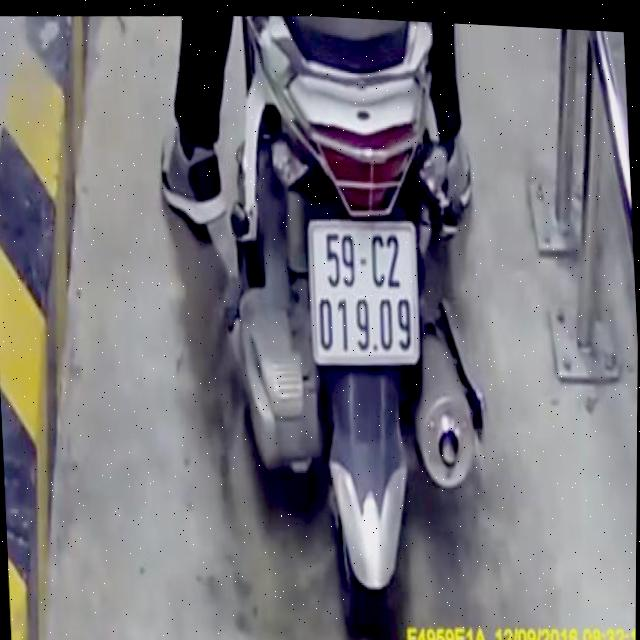motorcycle: (212, 11, 506, 640)
plate: (305, 212, 425, 375)
